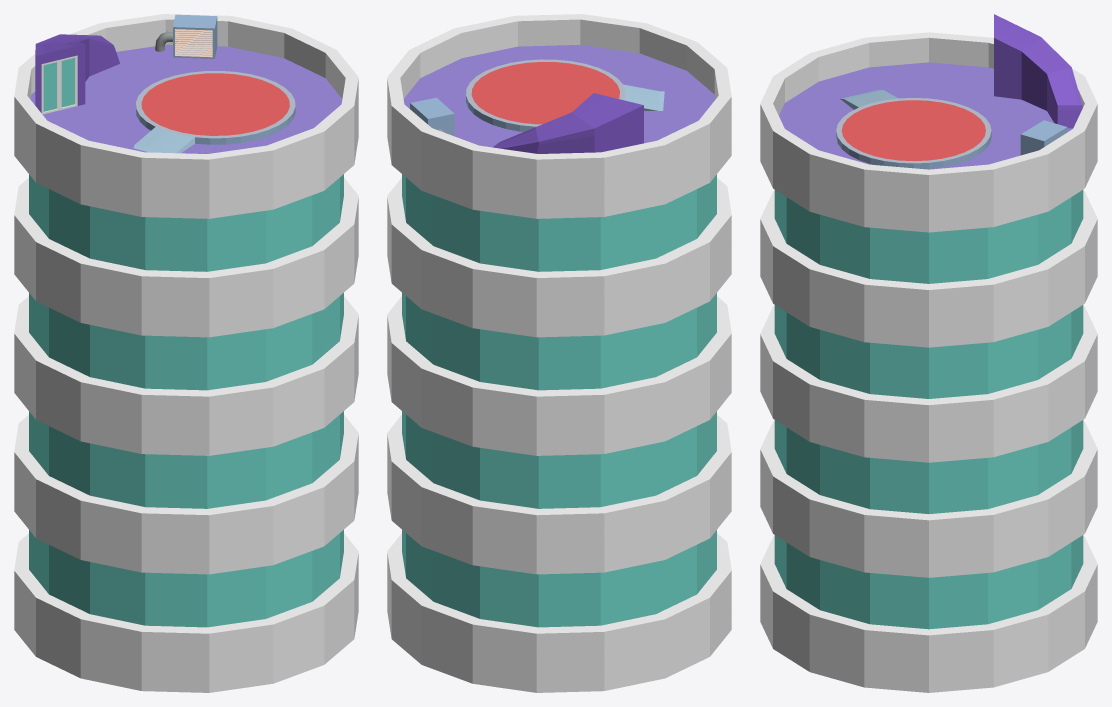
The model's file is SM_Skyscraper_JumpHigher_02b.fbx.
3 views of the same model, side by side, from view 1: azimuth 30°, elevation 25°; view 2: azimuth 150°, elevation 25°; view 3: azimuth 270°, elevation 25° (orthographic). The views are drawn at different scales.
Parts seen in each view (by area): view 1: Skyscraper_02b, Roof_Landing_Area_02b, Roof_Door_02b, Roof_AirConditioner_02b; view 2: Skyscraper_02b, Roof_Landing_Area_02b, Roof_Door_02b, Roof_AirConditioner_02b; view 3: Skyscraper_02b, Roof_Landing_Area_02b, Roof_Door_02b, Roof_AirConditioner_02b.
Part boxes in pixels (x1,y1,x2,y2): Skyscraper_02b: (14, 14, 358, 692); Roof_Landing_Area_02b: (133, 71, 295, 153); Roof_Door_02b: (35, 34, 119, 114); Roof_AirConditioner_02b: (155, 14, 217, 58); Skyscraper_02b: (387, 14, 731, 692); Roof_Landing_Area_02b: (466, 59, 664, 131); Roof_Door_02b: (492, 93, 643, 153); Roof_AirConditioner_02b: (410, 97, 454, 136); Skyscraper_02b: (760, 32, 1097, 692); Roof_Landing_Area_02b: (836, 89, 991, 169); Roof_Door_02b: (994, 14, 1082, 128); Roof_AirConditioner_02b: (1020, 120, 1067, 155).
Size of the model in its own units: 177 by 320 by 177.
